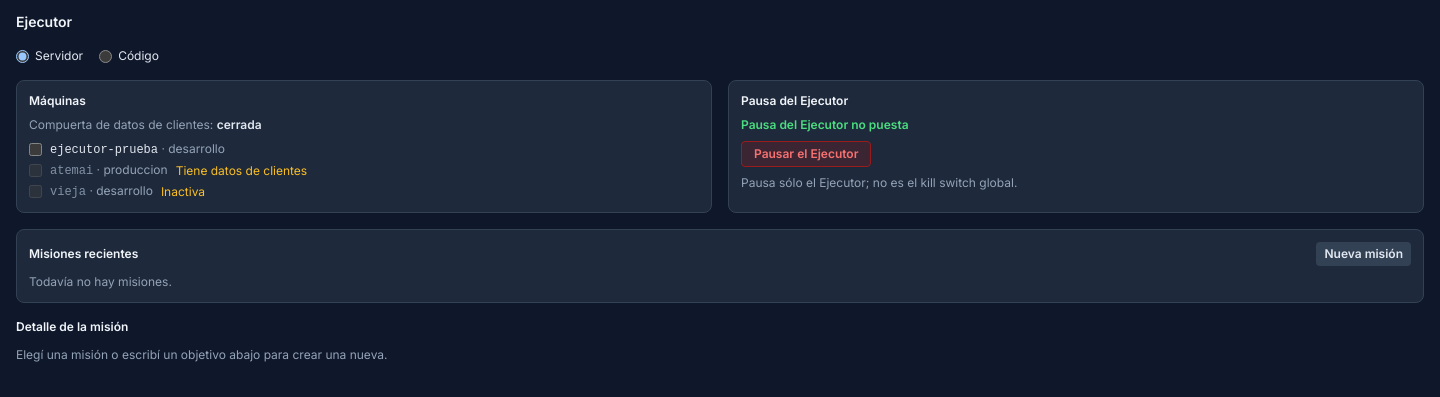
Test: Ejecutor -- pausa del Ejecutor › sin pausa: dice que no está puesta y el botón aclara que no es la pausa global
This screenshot has width=1440, height=397.
Expected: the text "Pausa del Ejecutor no puesta" is shown, [741,117,909,132]
Expected: the text "Pausa sólo el Ejecutor; no es el kill switch global." is shown, [741,175,1017,190]
What coordinates should you click on to do the following:
click the button "Pausar el Ejecutor"
I would click on:
 (806, 154)
Its box is [741,141,871,167].
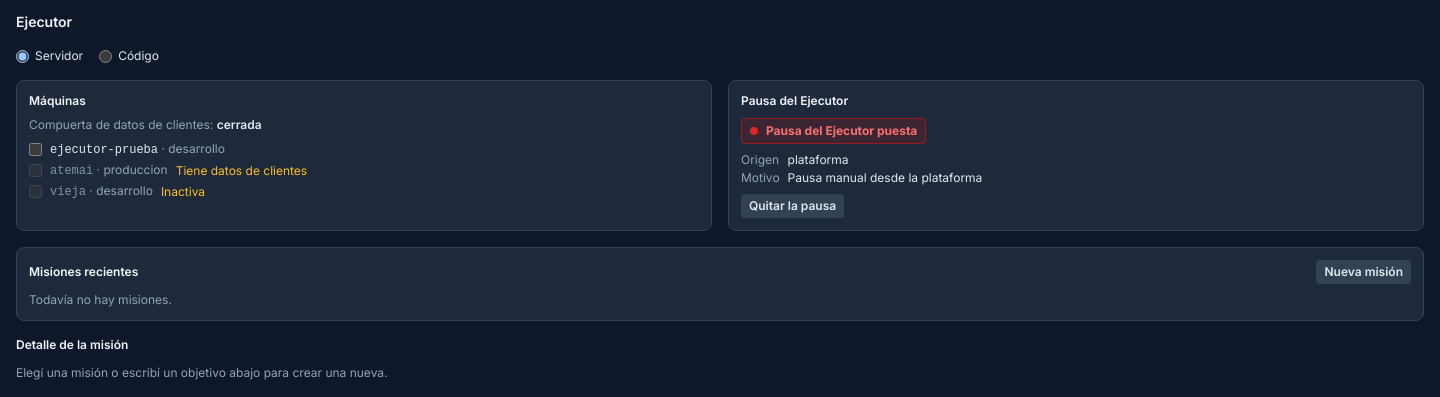
Now the text "Pausa del Ejecutor puesta" is shown, box [741,118,926,144]
